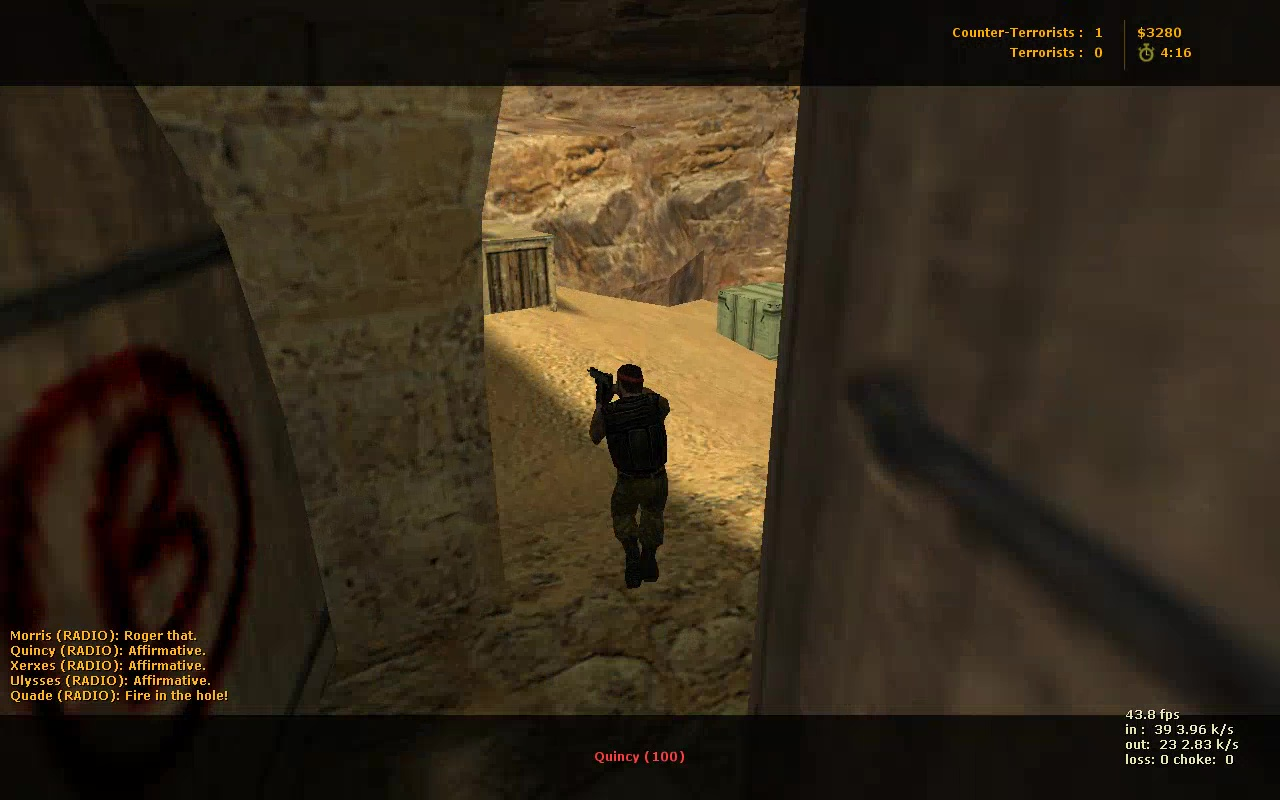terr1: (587, 364, 675, 585)
